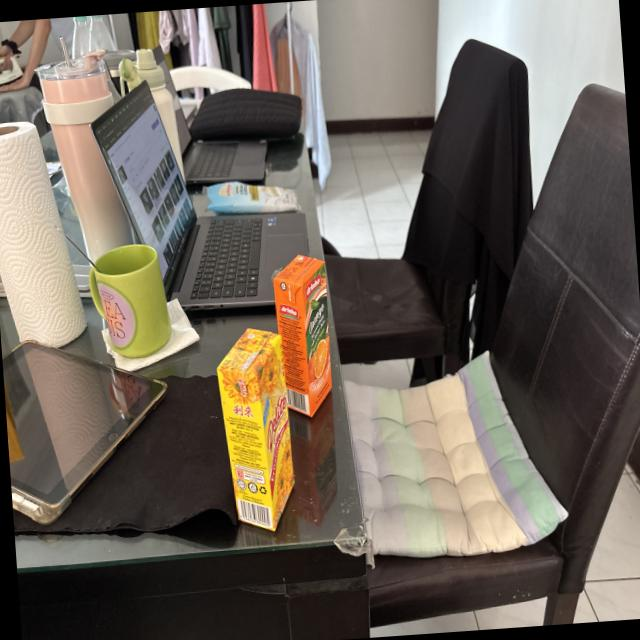drink_carton: (203, 318, 305, 540), (265, 241, 341, 426)
